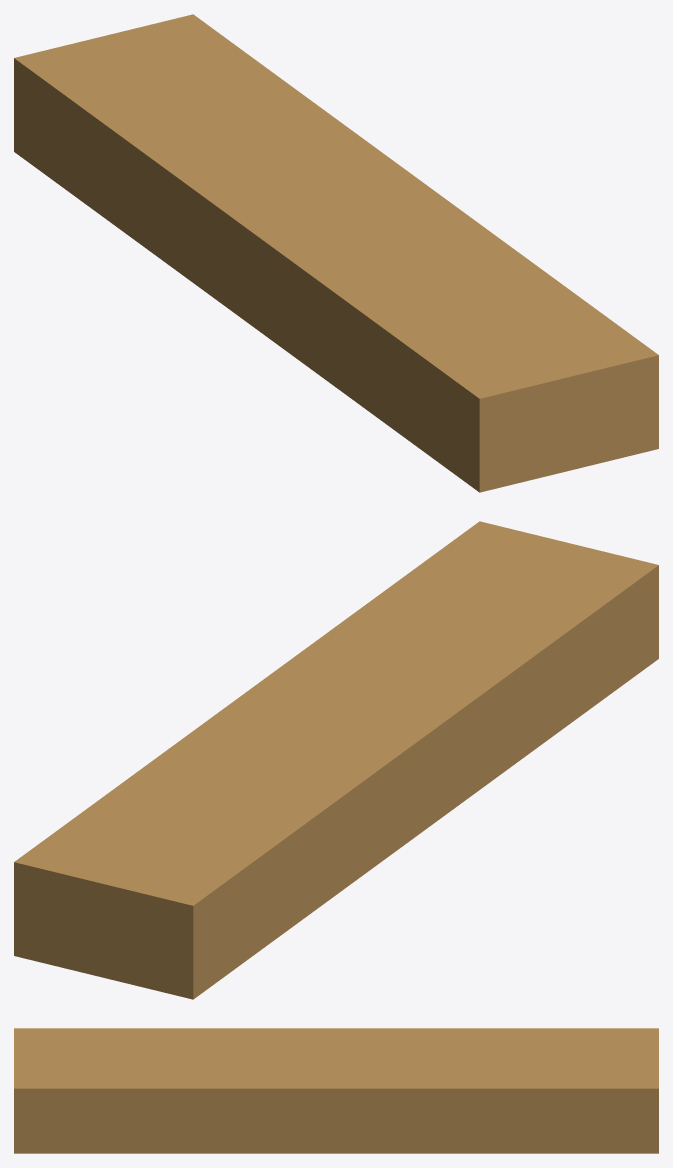
3 views of the same model, one above another, from view 1: azimuth 30°, elevation 25°; view 2: azimuth 150°, elevation 25°; view 3: azimuth 270°, elevation 25° (orthographic). The views are drawn at different scales.
Visible parts, largest first — view 1: RUN-093-S01-NOG-03; view 2: RUN-093-S01-NOG-03; view 3: RUN-093-S01-NOG-03.
Part boxes in pixels (<box>): RUN-093-S01-NOG-03: <box>14,14,658,492</box>; RUN-093-S01-NOG-03: <box>14,521,658,999</box>; RUN-093-S01-NOG-03: <box>14,1028,658,1153</box>.
Size of the model in its own units: 0.09 by 0.045 by 0.405.
